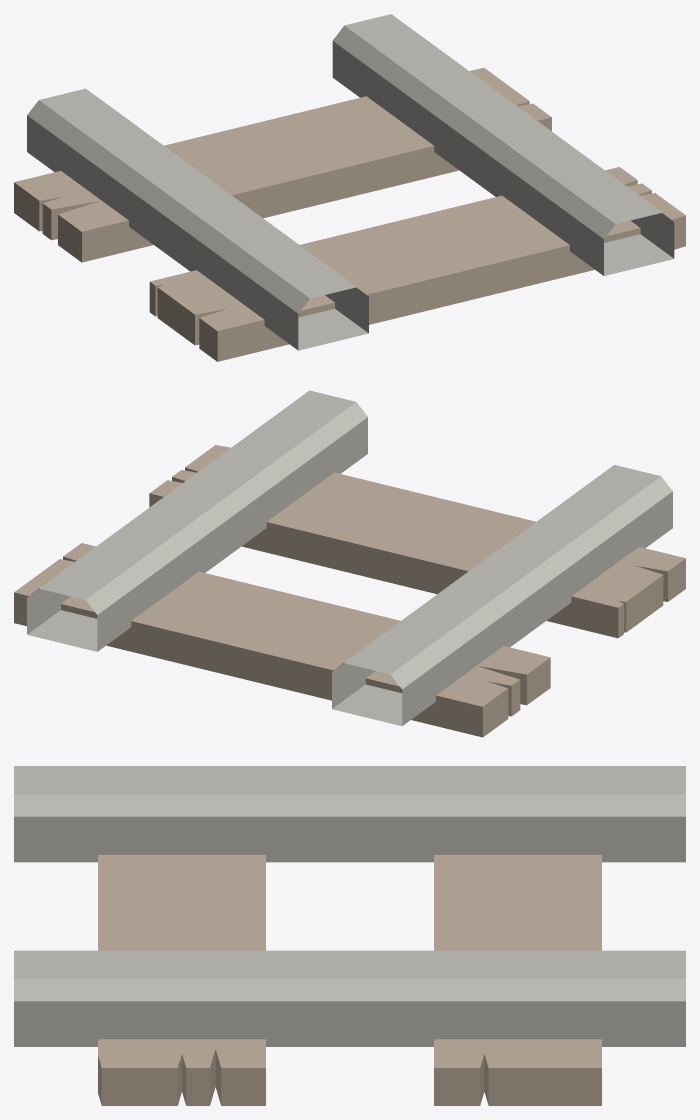
Rendered from Cave_Prop_Railway_Straight_4.glb.
The picture shows the model from 3 angles, top to bottom: view 1: azimuth 30°, elevation 25°; view 2: azimuth 150°, elevation 25°; view 3: azimuth 270°, elevation 25°; orthographic projection. The views are drawn at different scales.
Parts seen in each view (by area): view 1: Cave_Prop_Railway_Straight_4; view 2: Cave_Prop_Railway_Straight_4; view 3: Cave_Prop_Railway_Straight_4.
Part boxes in pixels (x1,y1,x2,y2): Cave_Prop_Railway_Straight_4: [14, 14, 685, 361]; Cave_Prop_Railway_Straight_4: [14, 390, 685, 737]; Cave_Prop_Railway_Straight_4: [14, 766, 685, 1105].
Bounding box in the file's own units: 0.28 × 0.042 × 0.28.
